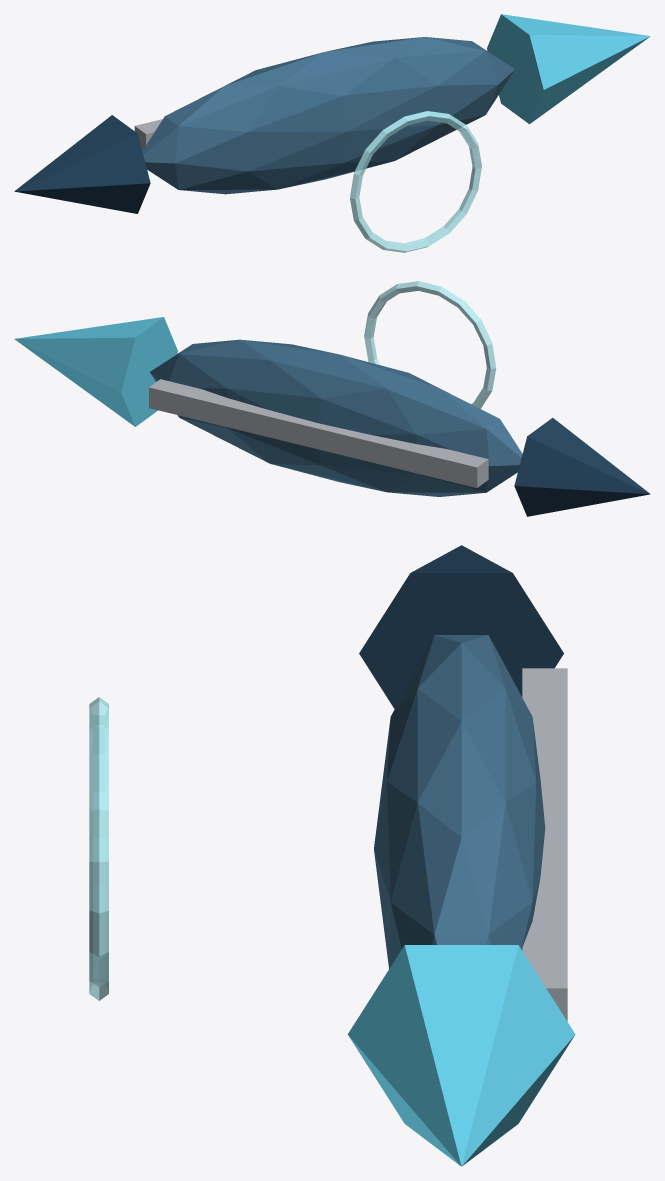
File: 05_skyship_hull.glb
3 renders of one model, top to bottom at view 1: azimuth 30°, elevation 25°; view 2: azimuth 150°, elevation 25°; view 3: azimuth 270°, elevation 25°, orthographic. The views are drawn at different scales.
Parts seen in each view (by area): view 1: hull_low_poly, bow_upgrade, stern_fin, size_class_ring, keel_plate; view 2: hull_low_poly, keel_plate, bow_upgrade, stern_fin, size_class_ring; view 3: hull_low_poly, bow_upgrade, stern_fin, keel_plate, size_class_ring.
Part boxes in pixels (left/top/right/bottom): hull_low_poly: left=142, top=37, right=514, bottom=194; bow_upgrade: left=487, top=14, right=650, bottom=124; stern_fin: left=14, top=115, right=150, bottom=213; size_class_ring: left=350, top=111, right=481, bottom=252; keel_plate: left=134, top=119, right=162, bottom=150; hull_low_poly: left=150, top=339, right=522, bottom=496; keel_plate: left=149, top=379, right=488, bottom=487; bow_upgrade: left=14, top=317, right=177, bottom=426; stern_fin: left=514, top=418, right=650, bottom=516; size_class_ring: left=364, top=281, right=496, bottom=408; hull_low_poly: left=374, top=635, right=545, bottom=968; bow_upgrade: left=347, top=945, right=575, bottom=1166; stern_fin: left=359, top=545, right=563, bottom=708; keel_plate: left=522, top=668, right=567, bottom=1021; size_class_ring: left=89, top=697, right=108, bottom=1000.
Bounding box in the file's own units: 5.29 × 1.08 × 1.75.
